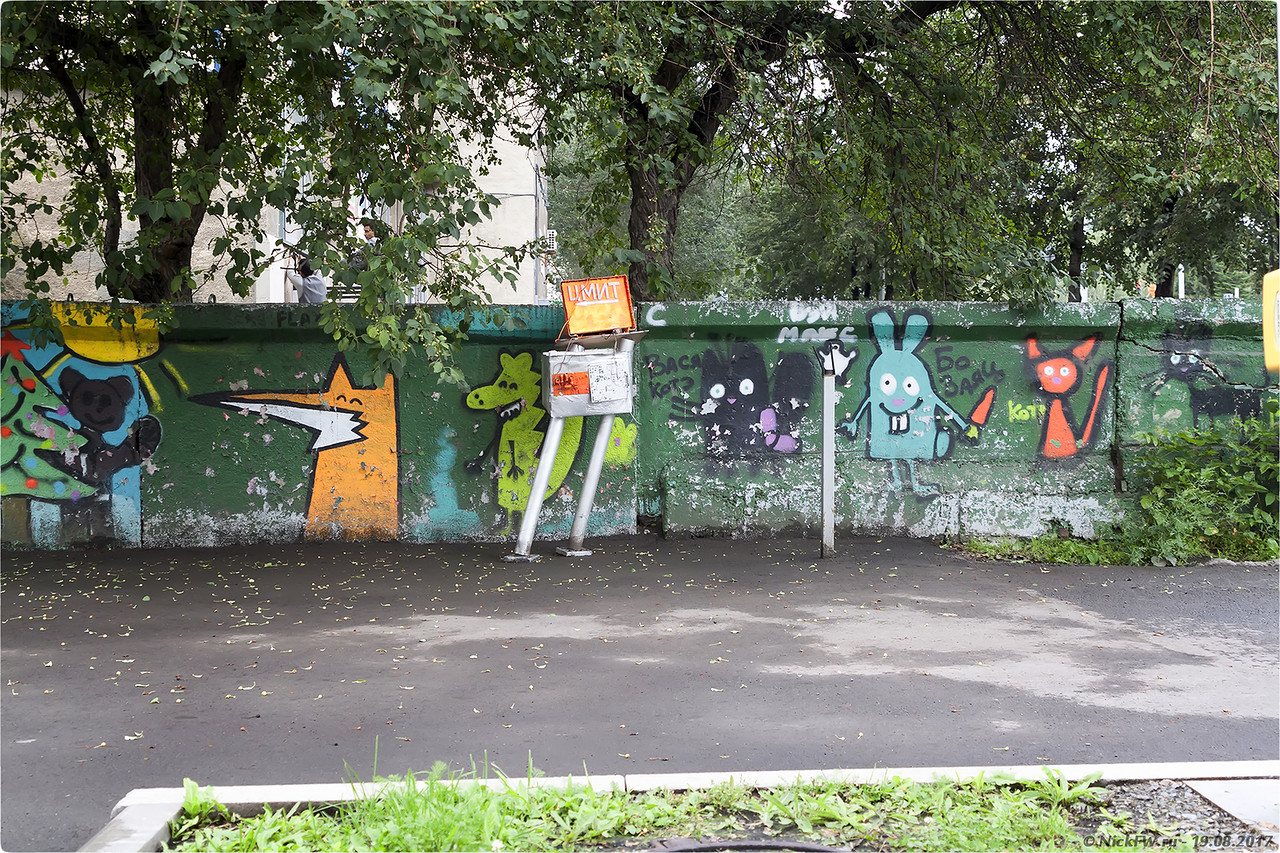graphite: (190, 345, 437, 541), (858, 304, 1123, 472), (1, 349, 174, 548), (485, 349, 594, 546), (1154, 316, 1280, 441)
